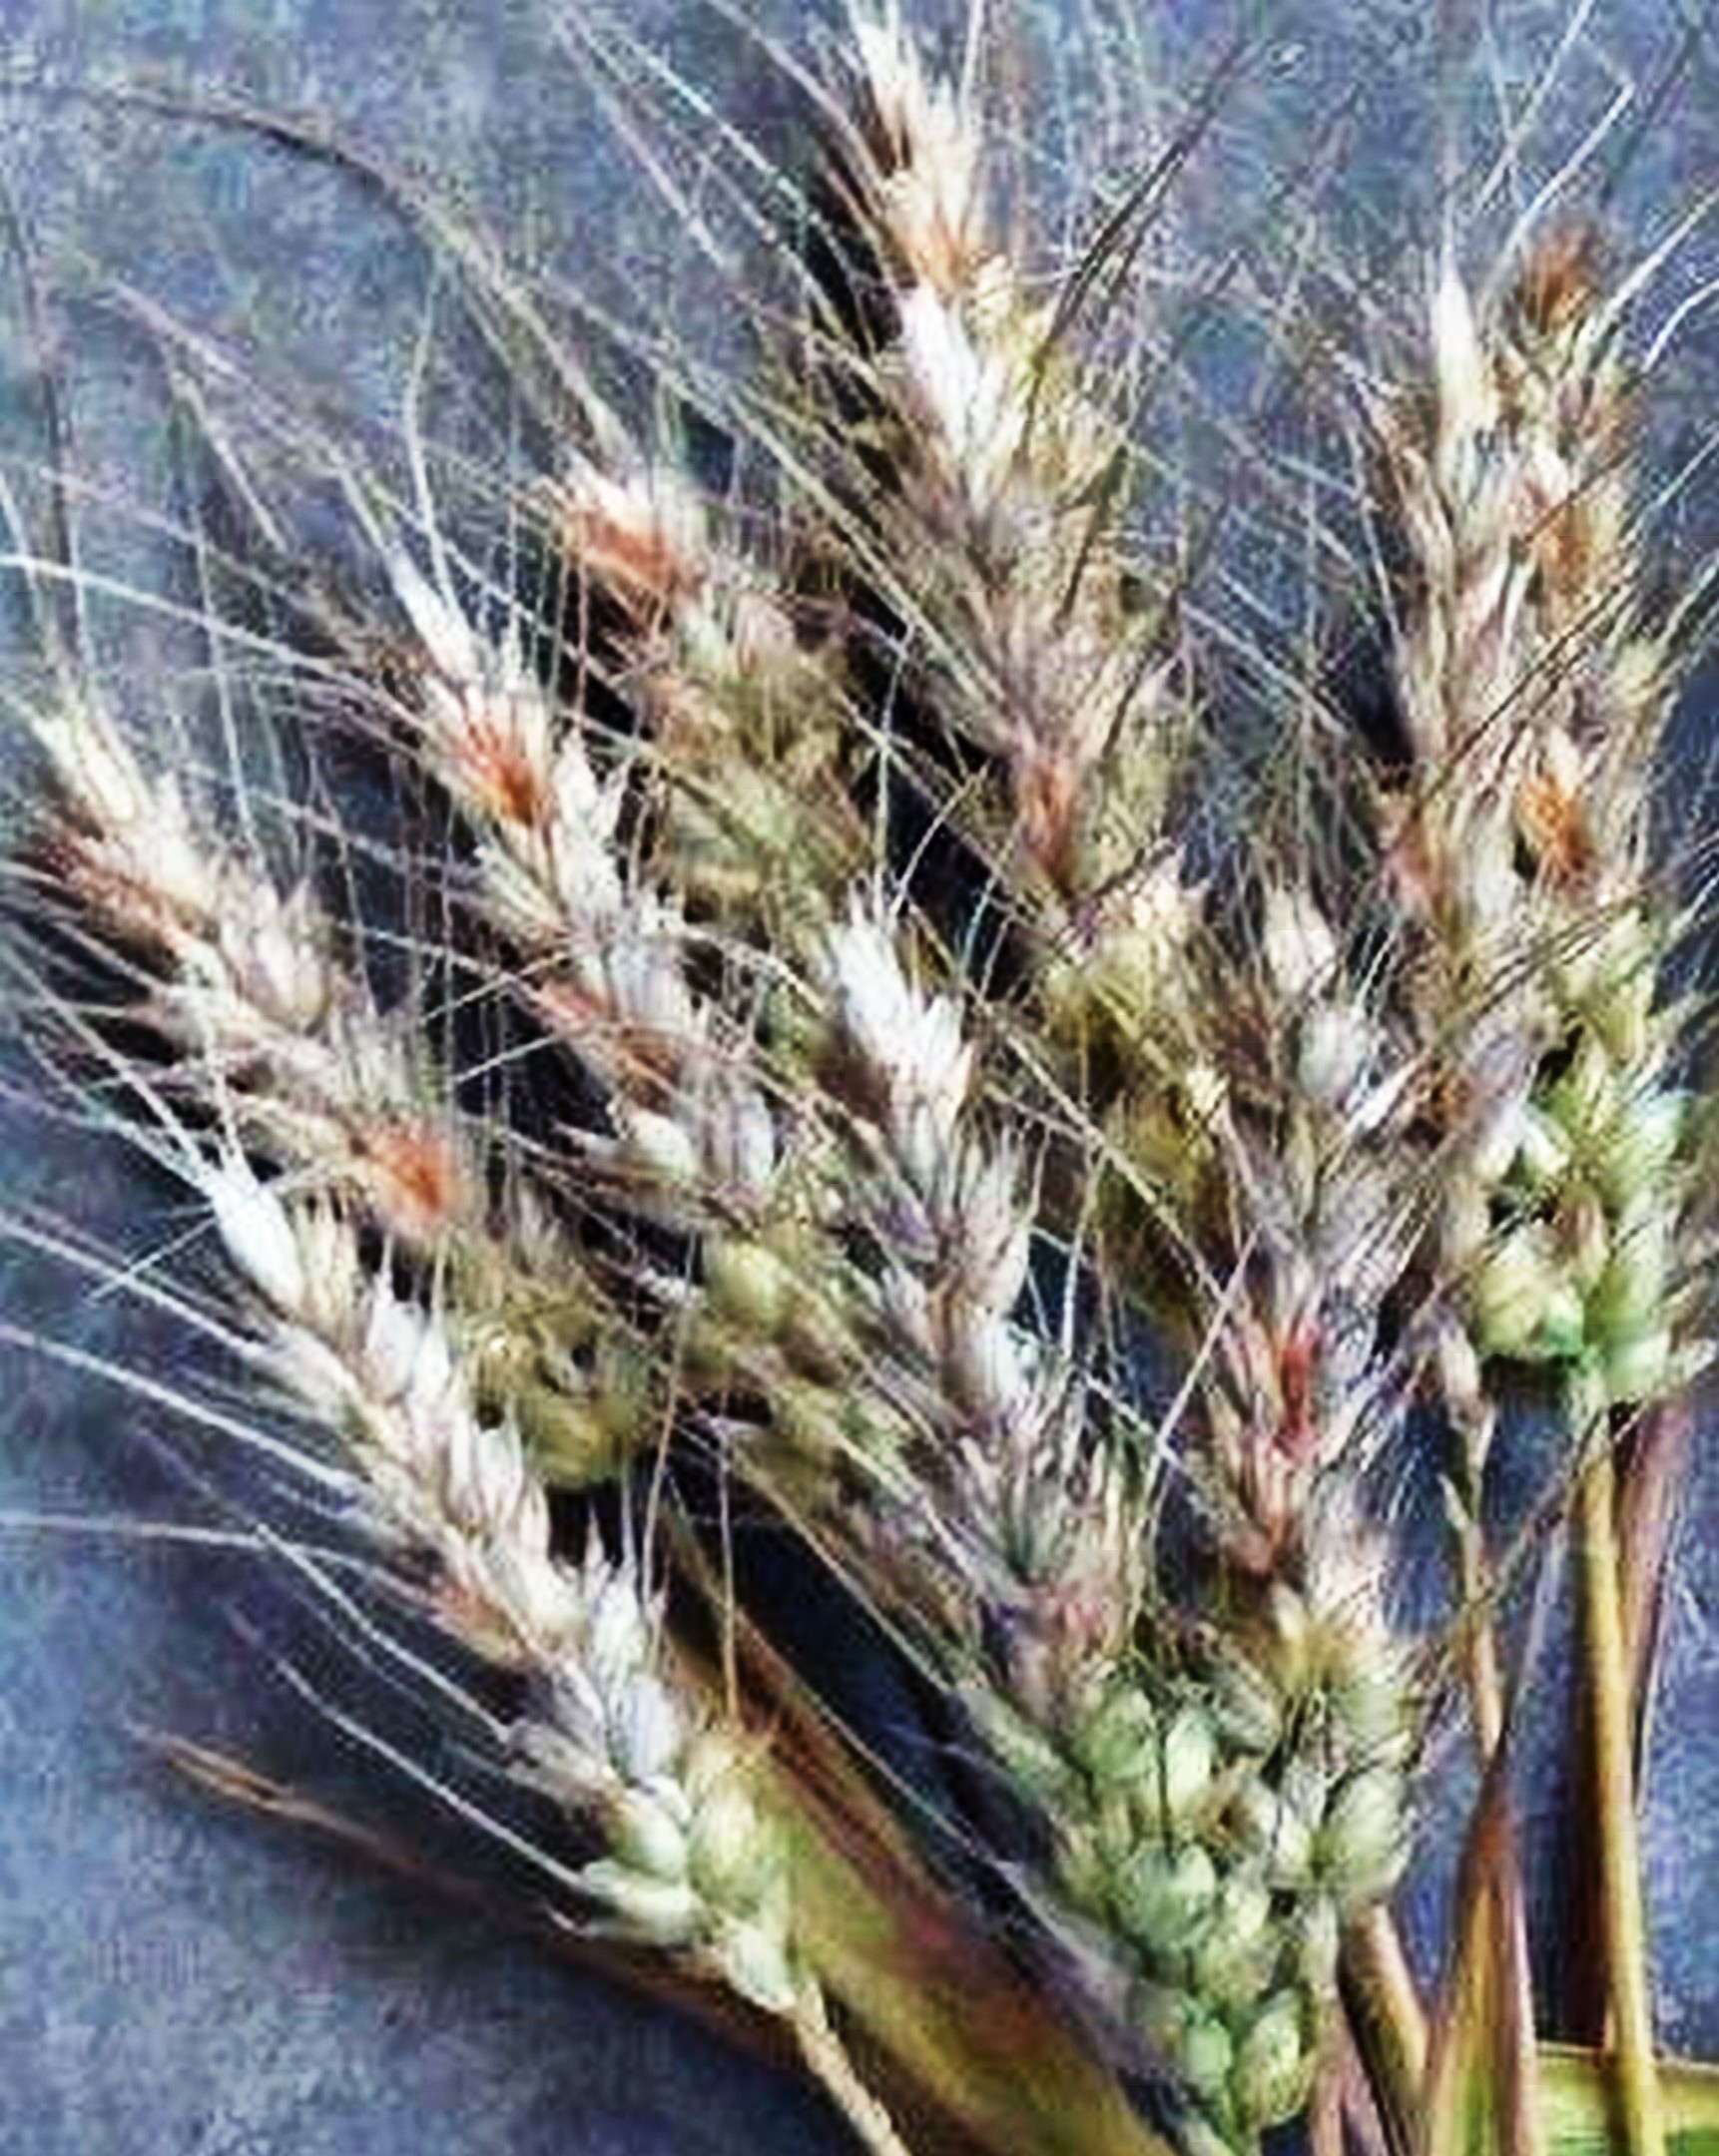Wheat scab: (154, 1188, 791, 2005), (1342, 284, 1719, 1430)
